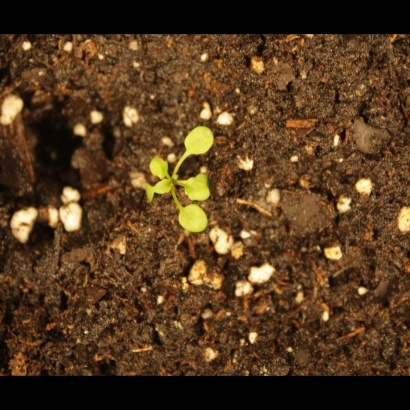leaf: (172, 202, 212, 236), (181, 121, 215, 157), (182, 176, 215, 205), (143, 178, 173, 206), (148, 156, 171, 179)
